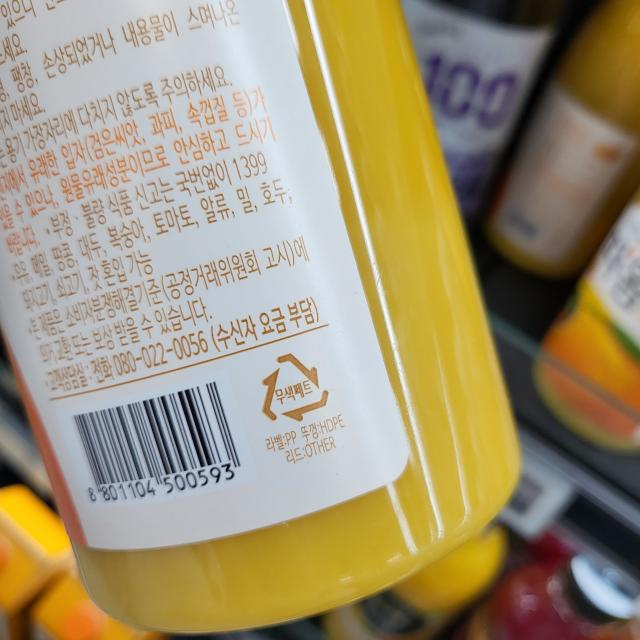ColorlessPET: (259, 348, 331, 430)
